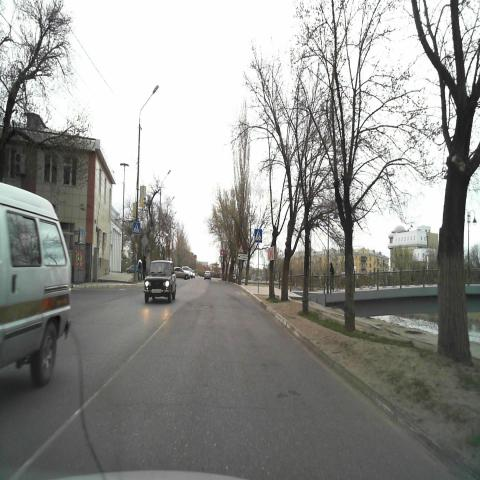5_19_1: (254, 229, 262, 243), (133, 222, 140, 234)
